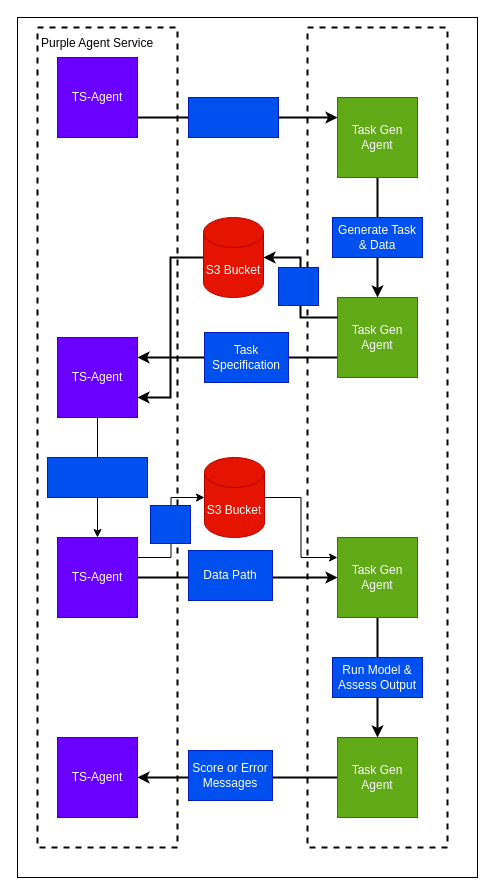
Image size: 495x895. Some labels were removed from this diagram. Each missing label, with the box of its shape:
Gen Data: (150, 504, 190, 544)
Green Agent Service: (306, 26, 448, 848)
Implement Solution: (46, 456, 148, 498)
Task Request: (188, 96, 278, 138)
Test Data: (278, 266, 318, 306)
